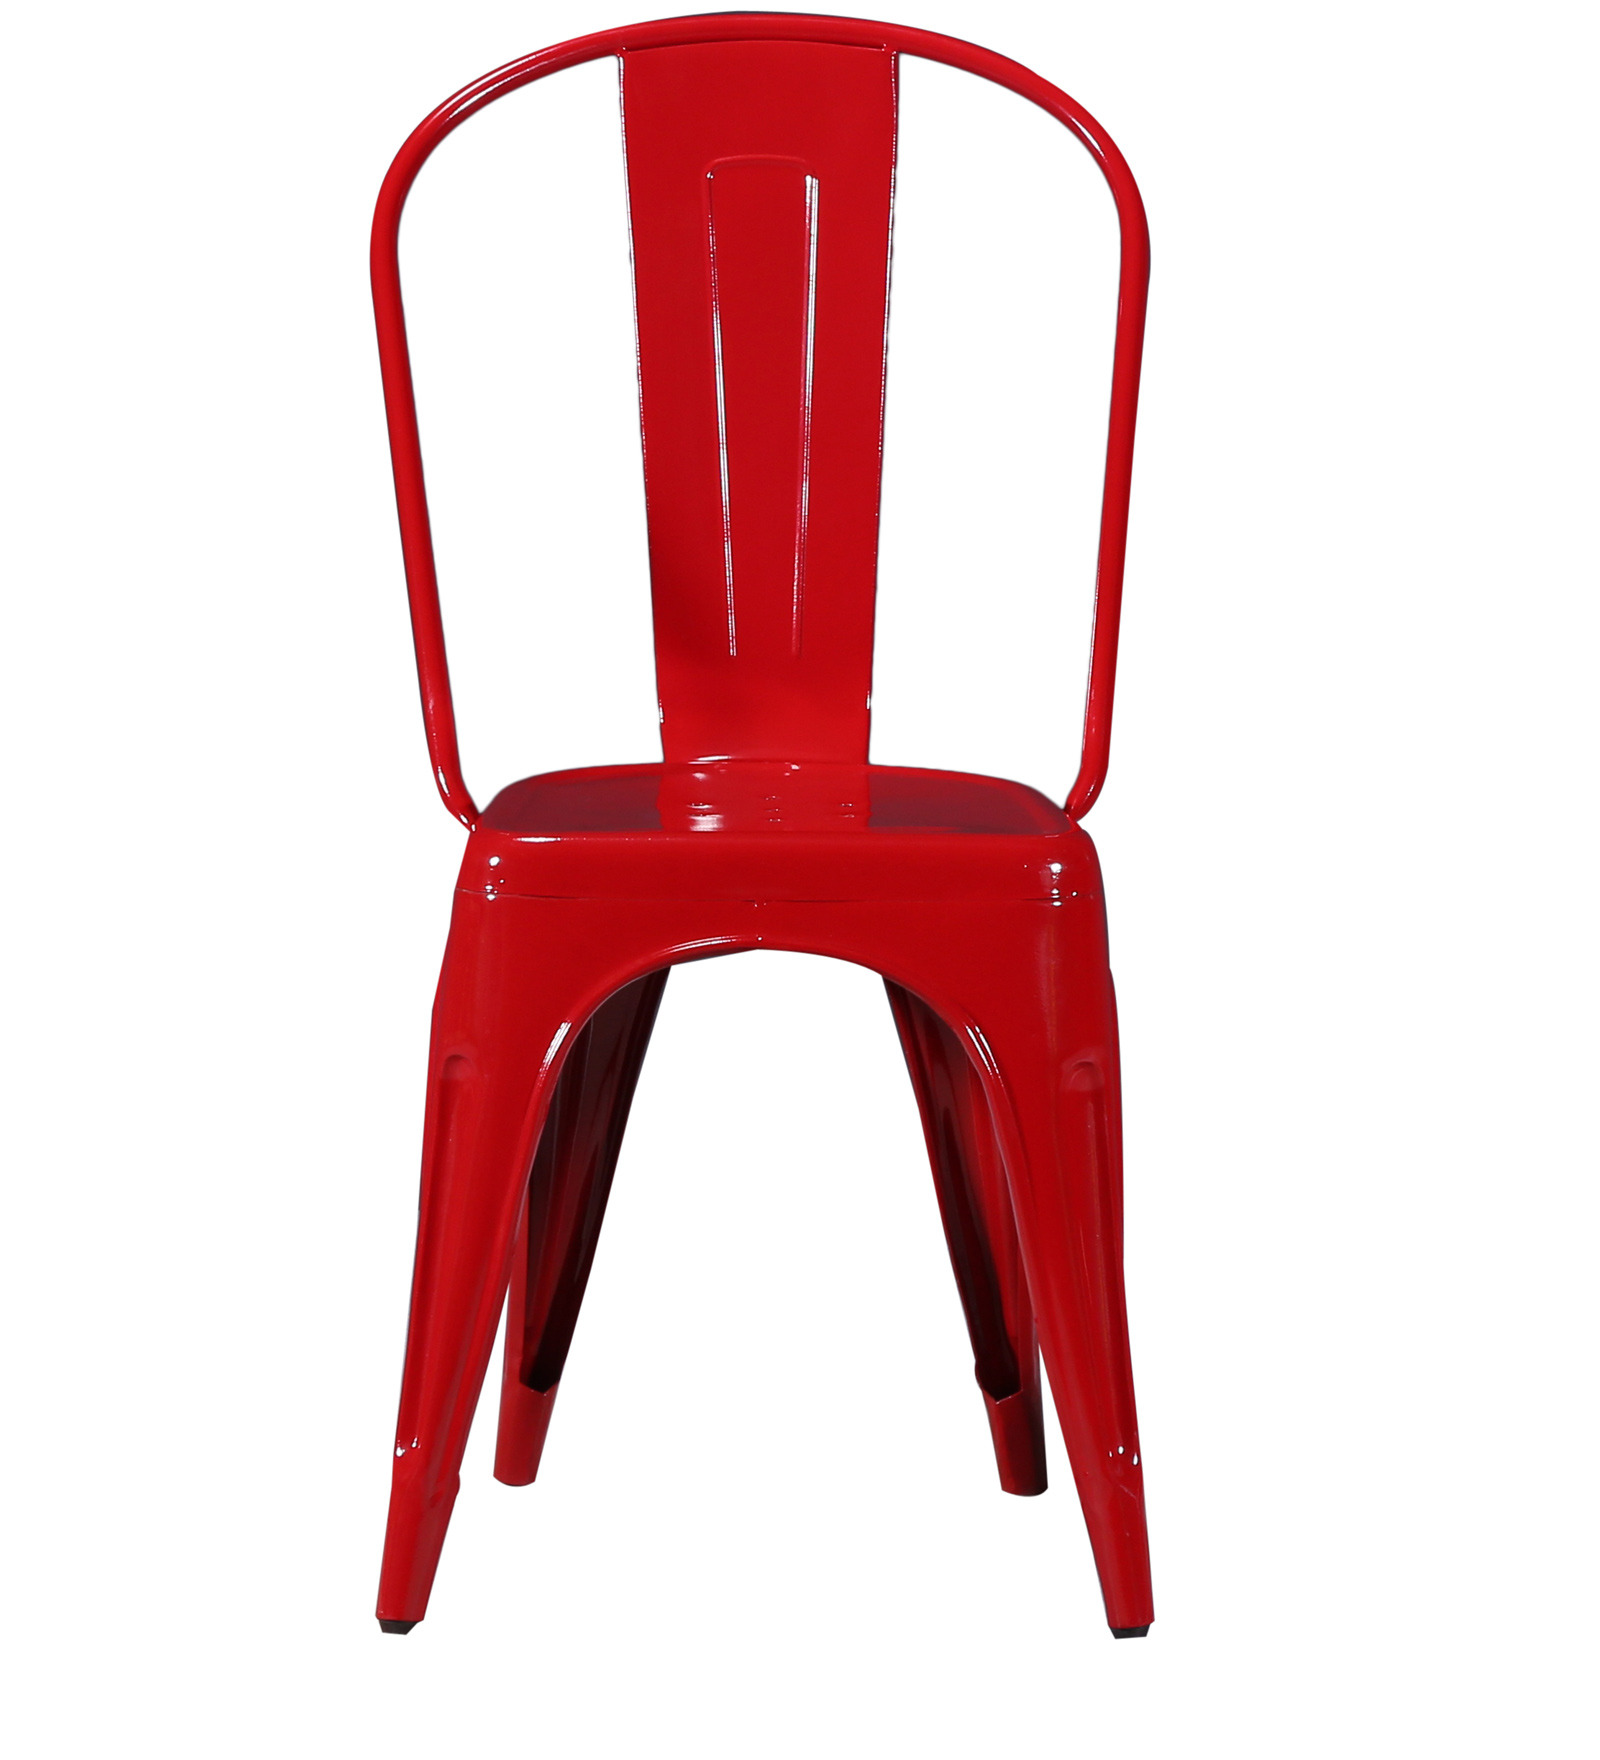Ekati Metal Chair in Red Color by Bohemiana: (282, 9, 1228, 1663)
